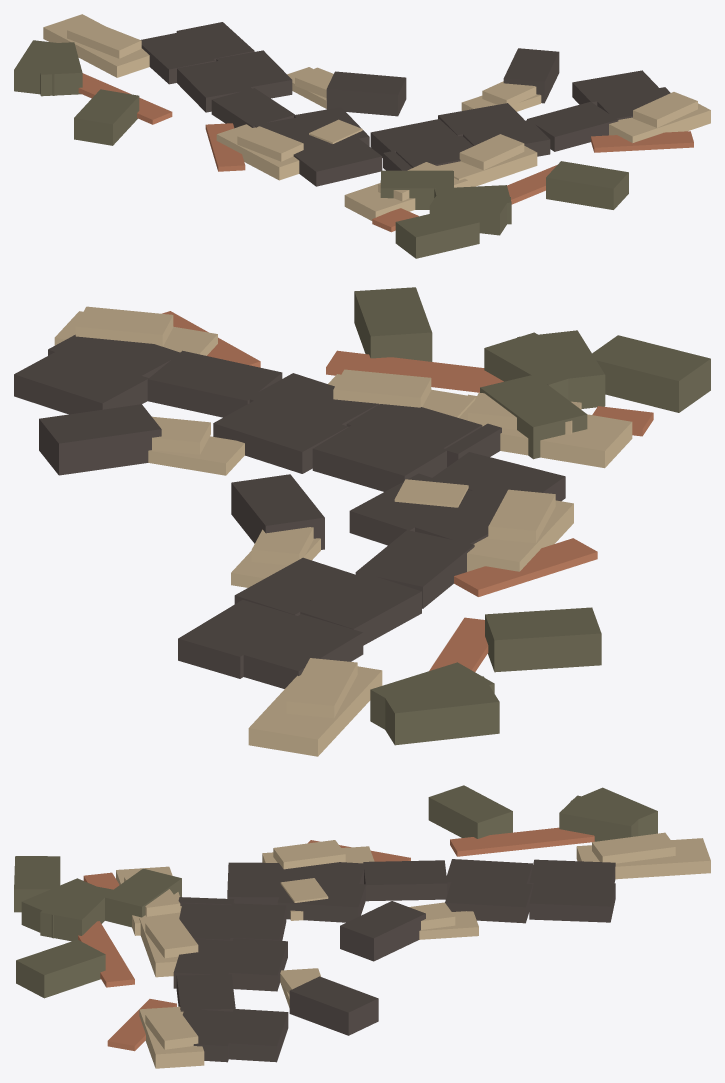
The model's file is SM_SacosEsquina_v3_Tablon_e3_Brecha_LOD1.fbx.
3 renders of one model, top to bottom at view 1: azimuth 30°, elevation 25°; view 2: azimuth 150°, elevation 25°; view 3: azimuth 270°, elevation 25°, orthographic. The views are drawn at different scales.
Parts seen in each view (by area): view 1: SM_sacos_piezas_v15_LOD1; view 2: SM_sacos_piezas_v15_LOD1; view 3: SM_sacos_piezas_v15_LOD1.
Part boxes in pixels (bbox=[...]): SM_sacos_piezas_v15_LOD1: bbox=[14, 14, 710, 258]; SM_sacos_piezas_v15_LOD1: bbox=[14, 287, 710, 756]; SM_sacos_piezas_v15_LOD1: bbox=[14, 785, 710, 1068].
Bounding box in the file's own units: 6.27 × 0.26 × 7.09.
